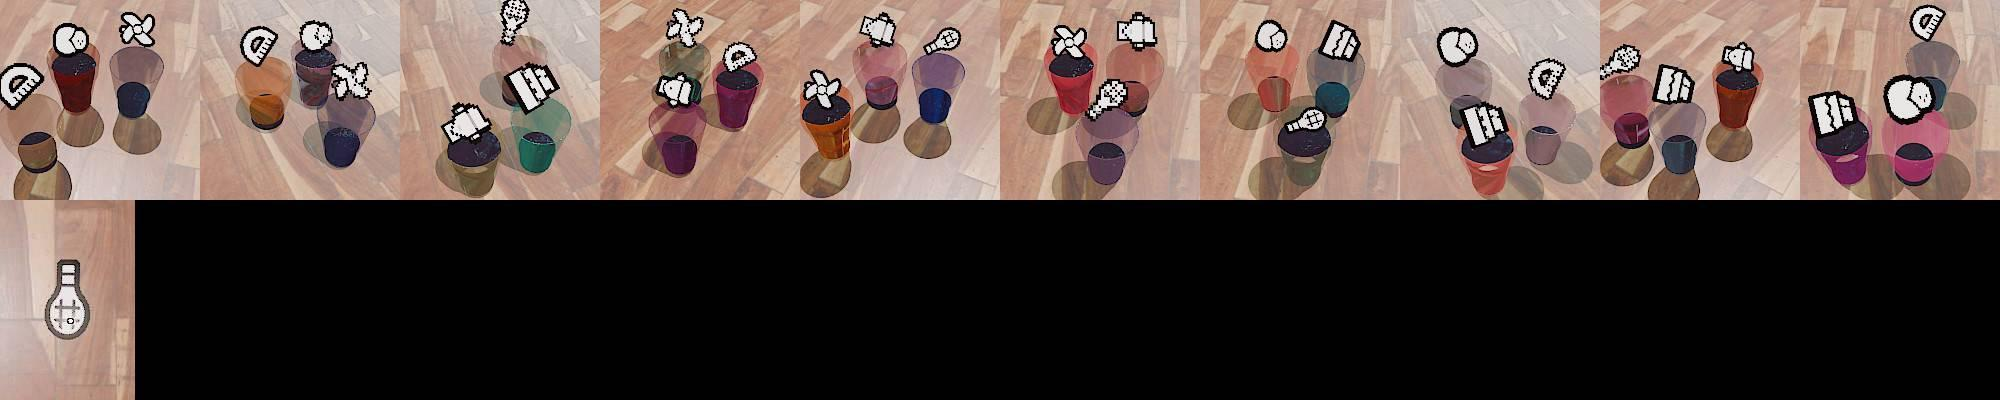icon: (42, 256, 93, 344), (501, 62, 560, 114), (1883, 74, 1938, 124), (1807, 91, 1859, 139), (1457, 101, 1510, 148), (441, 100, 494, 144), (0, 63, 45, 110), (1316, 18, 1362, 63), (1083, 78, 1128, 121), (654, 70, 703, 108), (1652, 63, 1695, 106), (329, 59, 372, 101), (800, 69, 843, 110), (664, 7, 706, 48), (1435, 26, 1477, 67), (1527, 57, 1566, 100), (240, 25, 279, 68), (1599, 43, 1643, 81), (1116, 12, 1157, 50), (1049, 23, 1090, 61), (1283, 105, 1328, 138), (859, 11, 899, 48), (1909, 5, 1947, 43), (499, 0, 531, 45), (119, 11, 156, 46), (297, 19, 334, 53), (53, 22, 89, 56), (721, 41, 758, 73), (1721, 41, 1756, 74), (1254, 19, 1289, 52), (923, 26, 961, 56)
